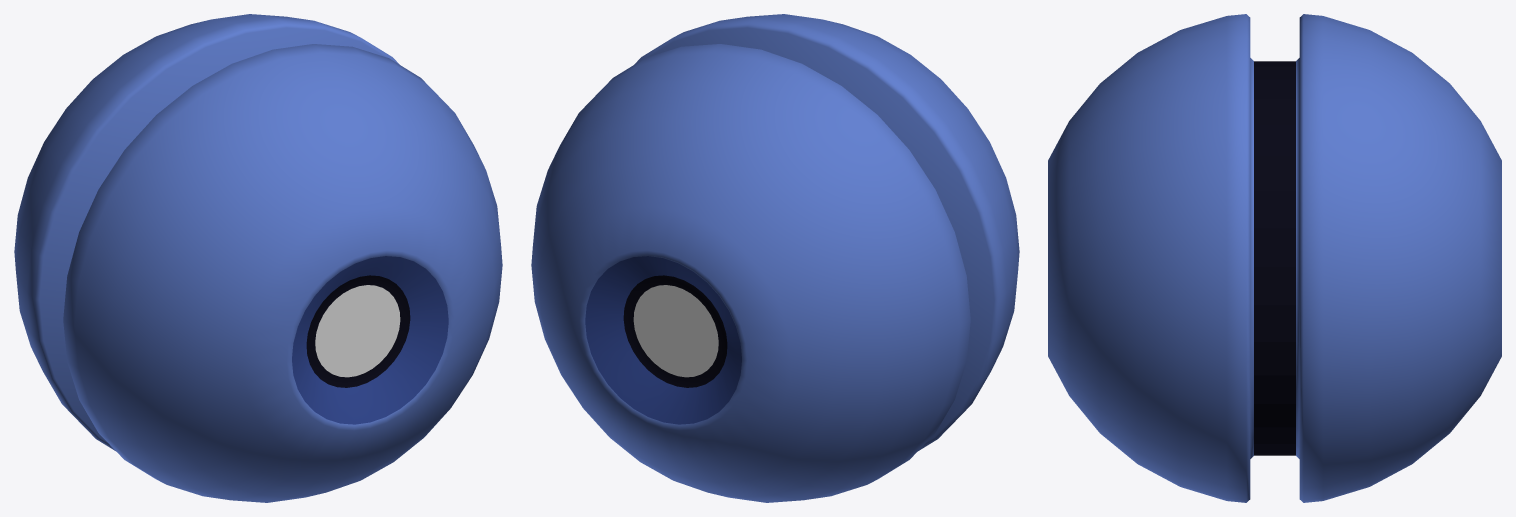
The model's file is robosphere.fbx.
The picture shows the model from 3 angles, left to right: view 1: azimuth 30°, elevation 25°; view 2: azimuth 150°, elevation 25°; view 3: azimuth 270°, elevation 25°; orthographic projection.
Parts seen in each view (by area): view 1: Сфера; view 2: Сфера; view 3: Сфера.
Boxes of the visible parts, left/top/right/bottom form: Сфера: left=14, top=14, right=502, bottom=502; Сфера: left=531, top=14, right=1019, bottom=502; Сфера: left=1048, top=14, right=1501, bottom=502.
Bounding box in the file's own units: 383 × 383 × 355.
